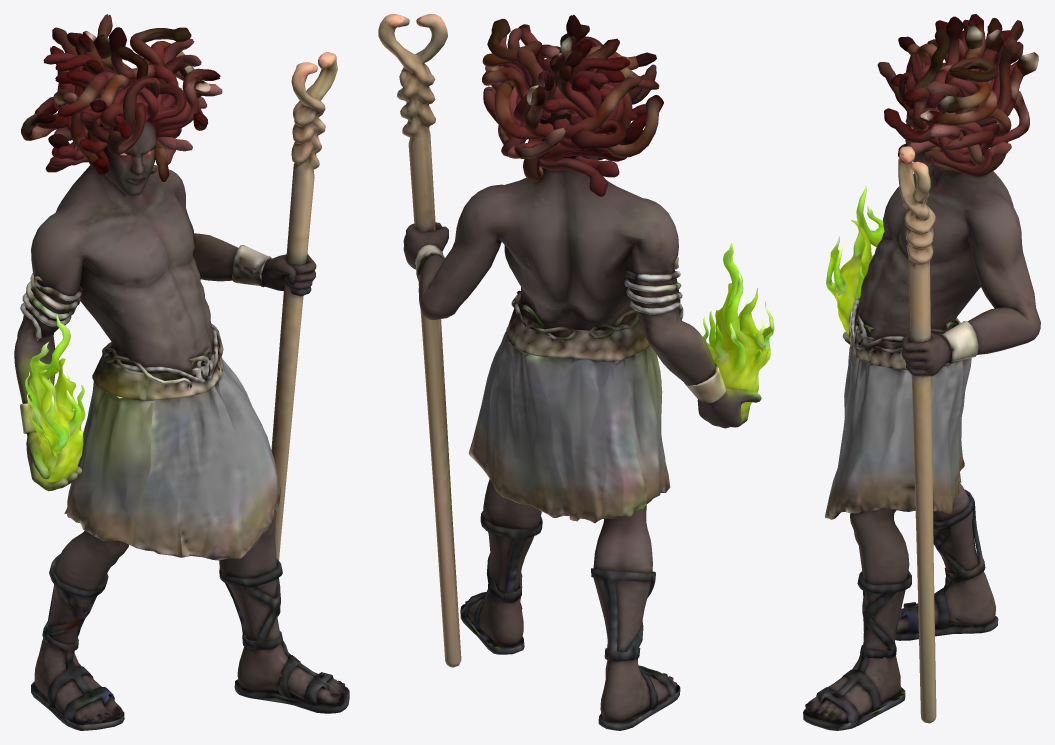
Rendered from MZ4250 - Medusa Male 2025.glb.
3 renders of one model, left to right at view 1: azimuth 30°, elevation 25°; view 2: azimuth 150°, elevation 25°; view 3: azimuth 270°, elevation 25°, orthographic. The views are drawn at different scales.
Parts seen in each view (by area): view 1: Body.002; view 2: Body.002; view 3: Body.002.
Boxes of the visible parts, bbox=[...] form: Body.002: bbox=[14, 14, 349, 730]; Body.002: bbox=[378, 14, 774, 730]; Body.002: bbox=[803, 14, 1040, 730].
Bounding box in the file's own units: 53.08 × 99.86 × 33.39.
3 materials, 3 textured.
